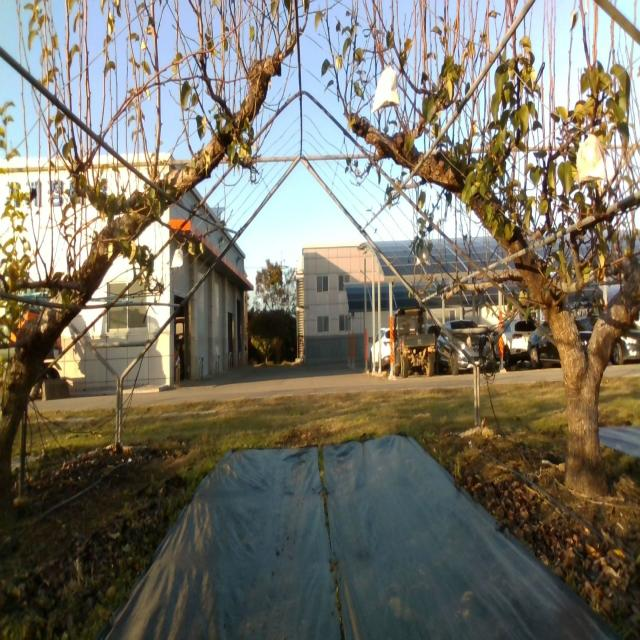pearbags: (576, 132, 608, 191), (371, 54, 399, 116), (414, 245, 430, 268), (171, 247, 183, 268)
